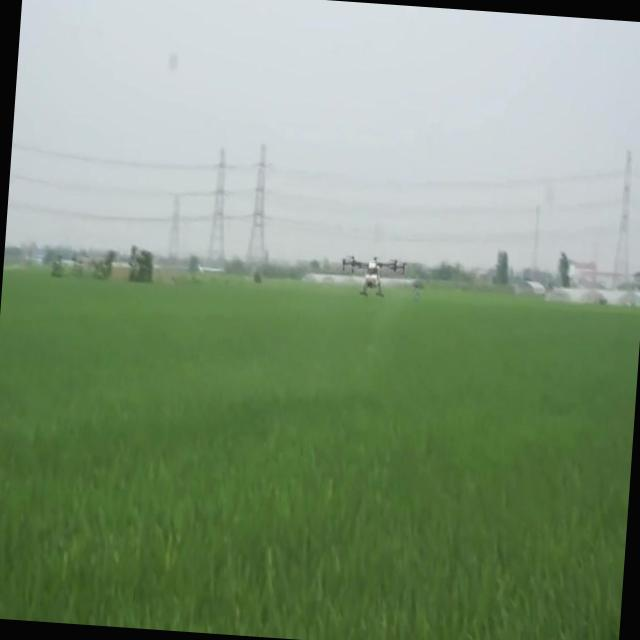drone: (338, 249, 408, 303)
